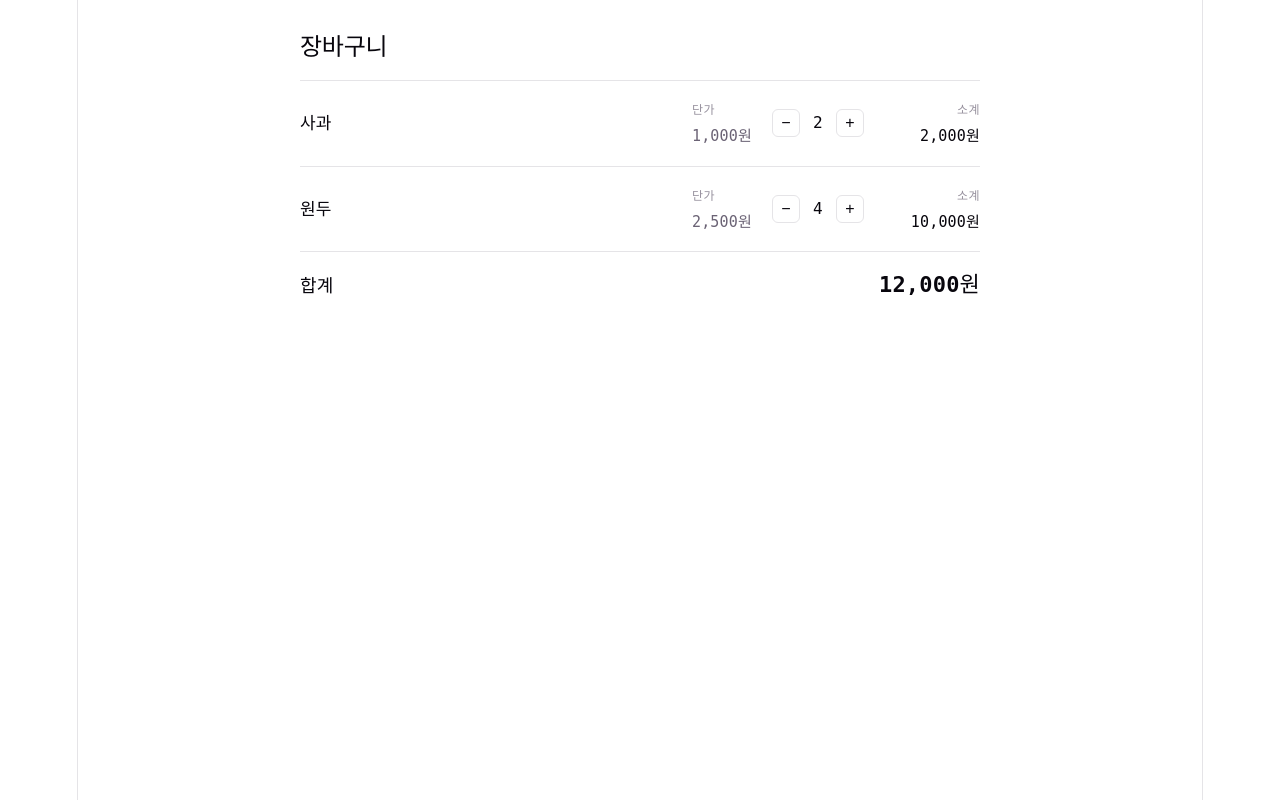
수량 스테퍼 › − 를 누르면 그 줄의 수량과 소계·합계가 1개분 내린다 (S6)
The image size is (1280, 800).
Click the button named "사과 수량 줄이기".
click(786, 123)  # box x1=772 y1=109 x2=800 y2=137
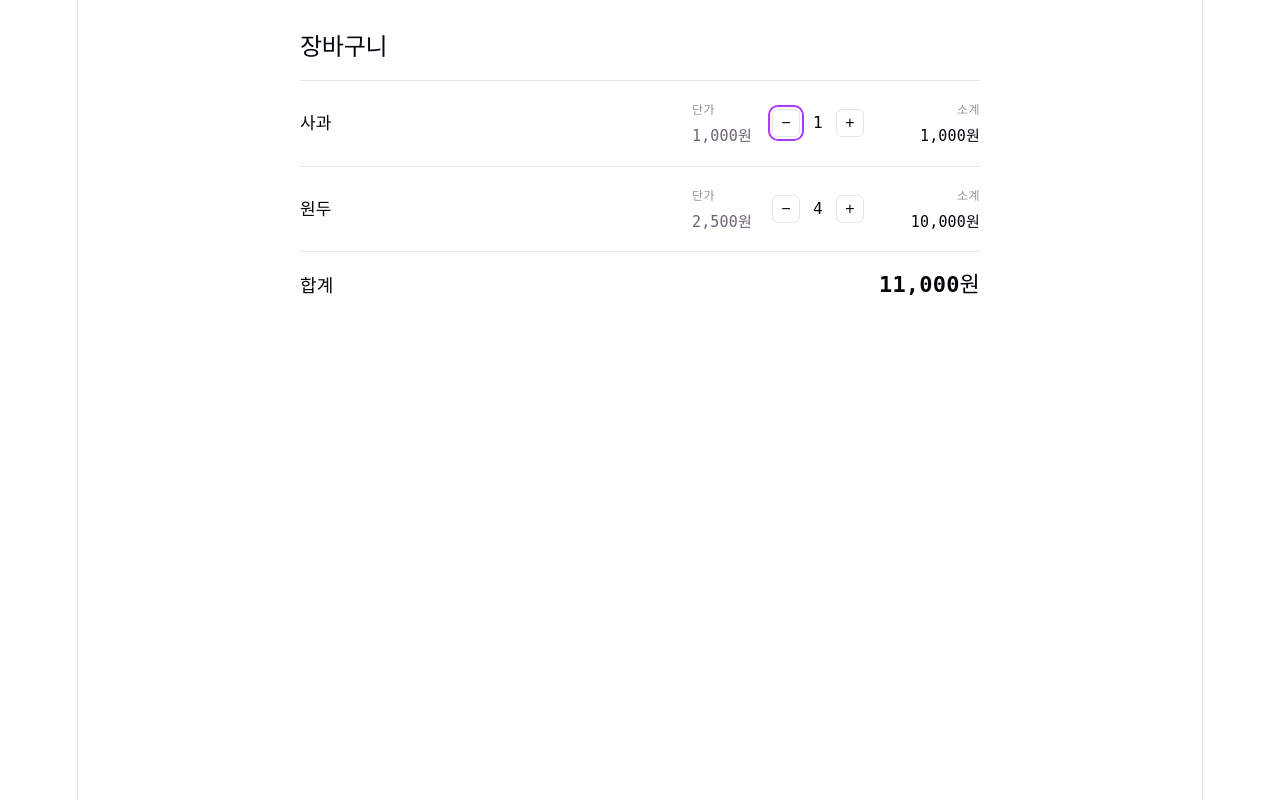
Check: the list item "사과" shows "1,000원", box x1=692 y1=127 x2=752 y2=145
Check: the text "11,000원" is shown, box x1=879 y1=272 x2=980 y2=298
